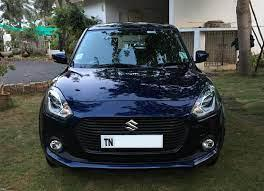Hatchback: (38, 21, 225, 174)
